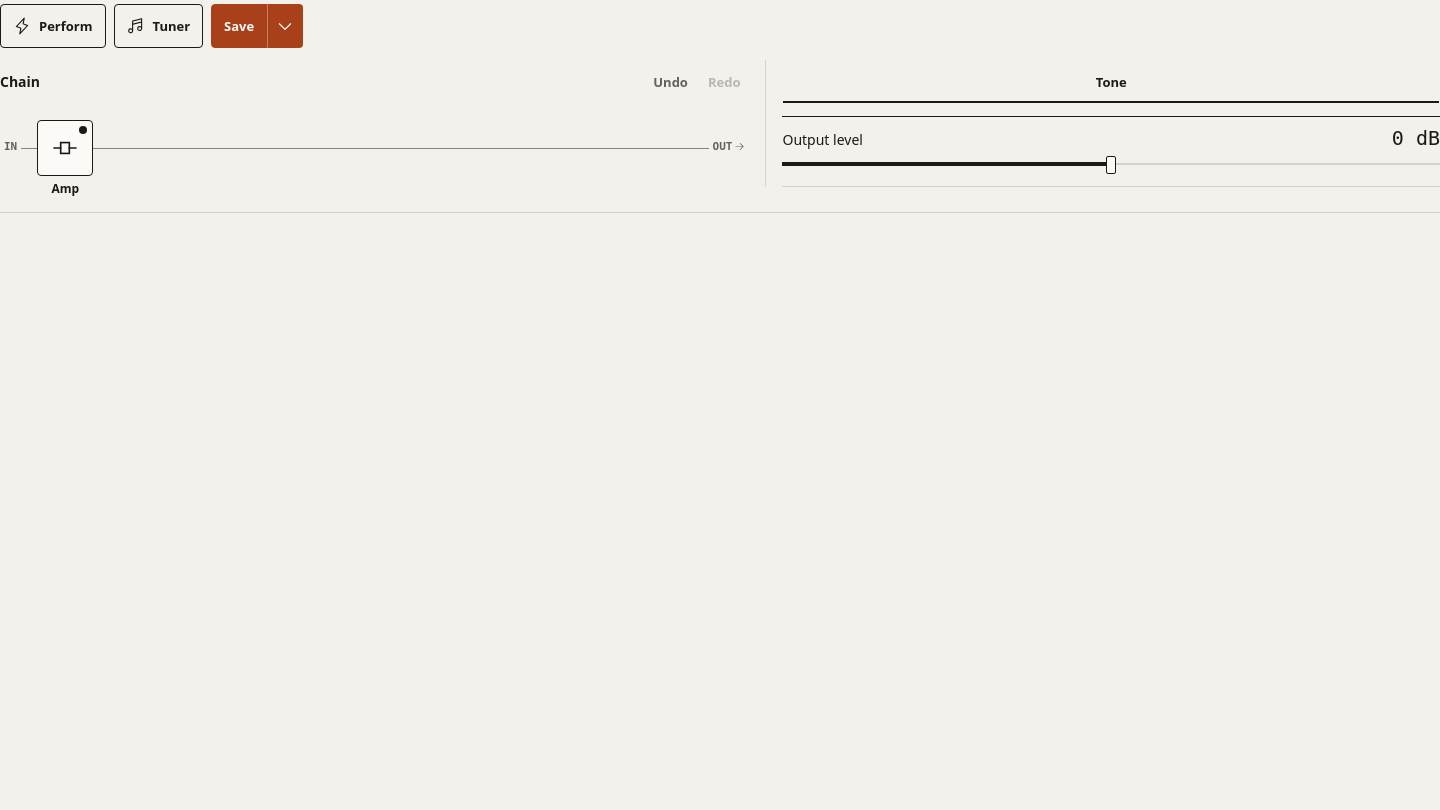
it: never starts or retries after a failed stop
Click the button named "Preset actions". click: (285, 26)
box: [267,4,303,48]
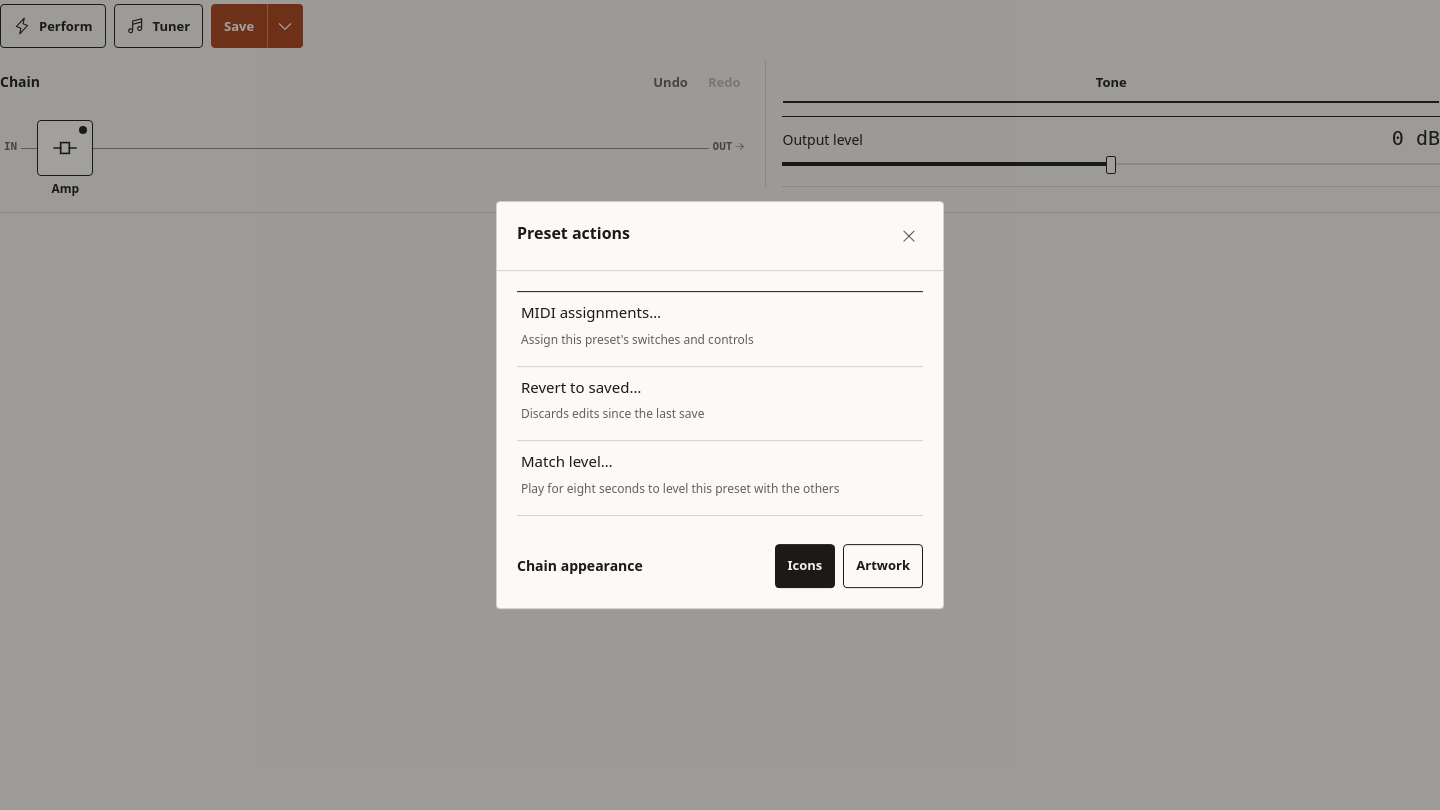
Click the button with aria-label "Reload saved". click: (581, 387)
box: [517,367,923,441]
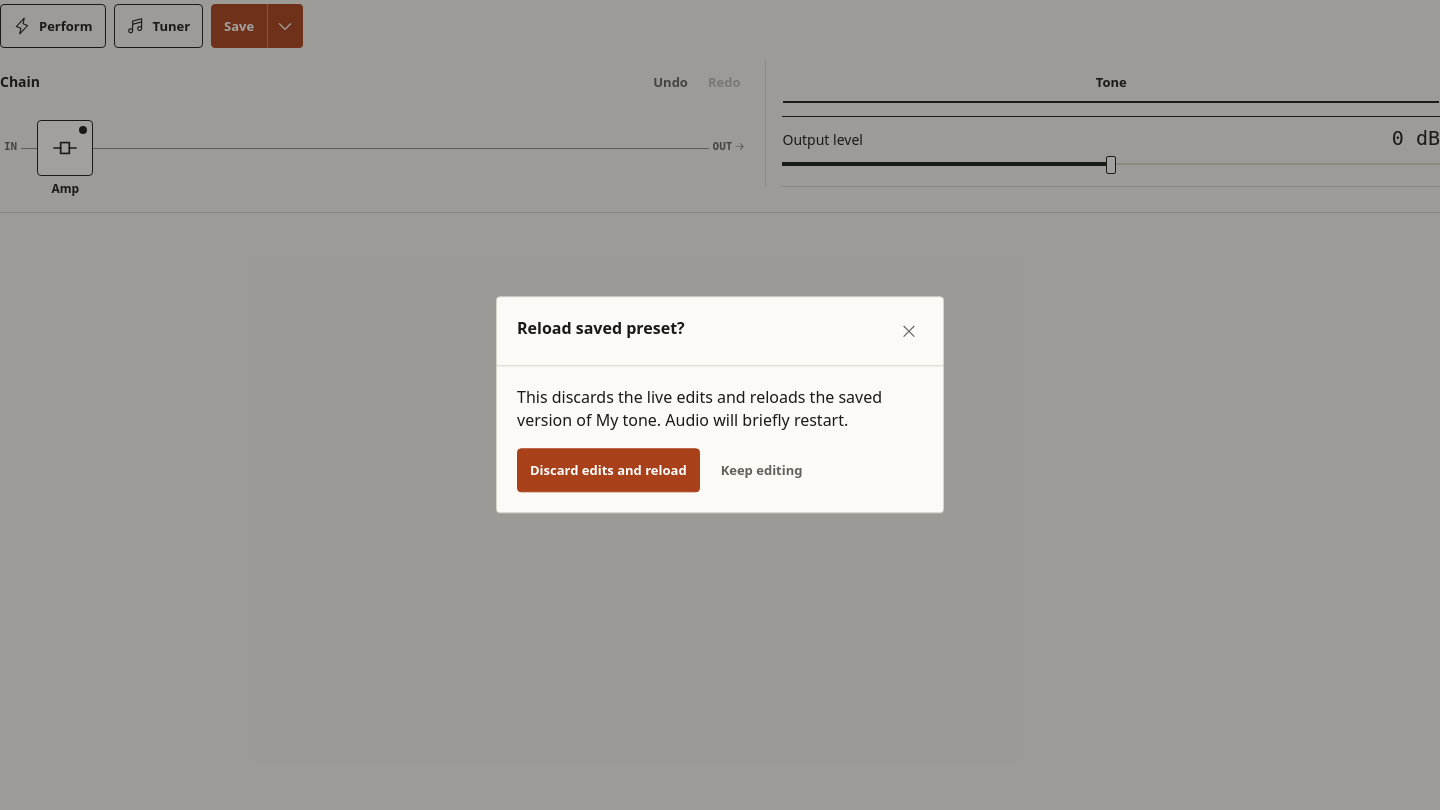
Click the button "Discard edits and reload". click: (608, 471)
box: [517,449,700,493]
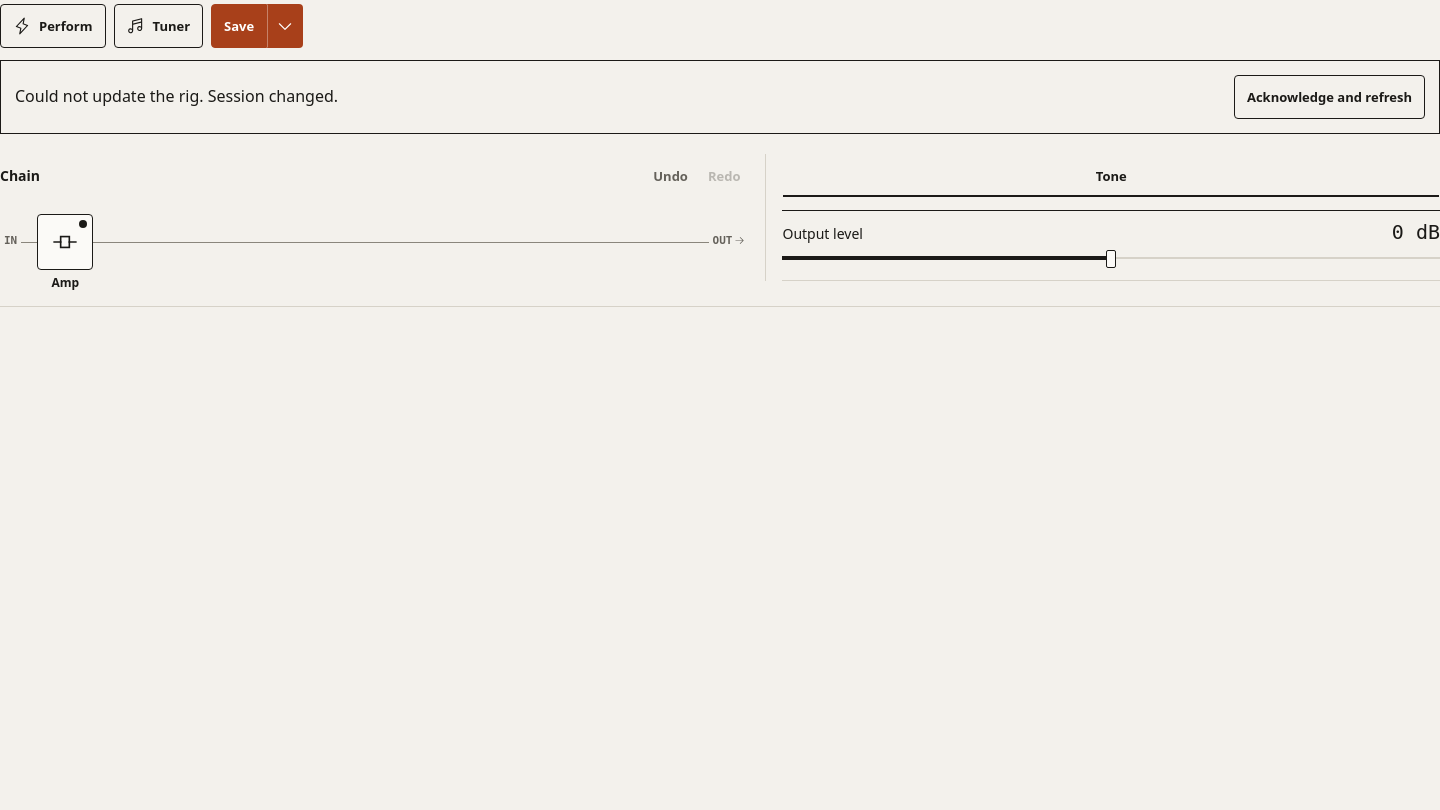
Check: the text "Could not update the rig. Session changed." is shown, box [15,85,338,107]
